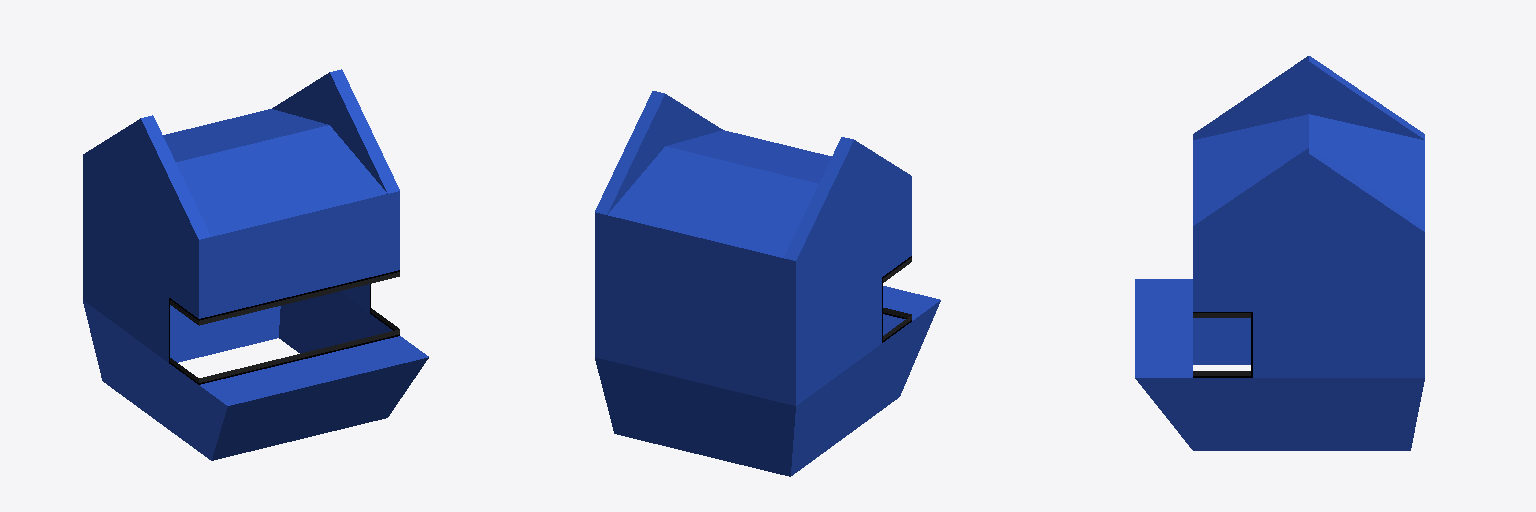
File: rdash5000.obj
3 renders of one model, left to right at view 1: azimuth 30°, elevation 25°; view 2: azimuth 150°, elevation 25°; view 3: azimuth 270°, elevation 25°, orthographic.
Parts seen in each view (by area): view 1: Cube.001; view 2: Cube.001; view 3: Cube.001.
Part boxes in pixels (bbox=[...]): Cube.001: bbox=[83, 69, 428, 460]; Cube.001: bbox=[595, 91, 940, 476]; Cube.001: bbox=[1135, 56, 1424, 450].
Bounding box in the file's own units: 0.2032 × 0.2921 × 0.254.